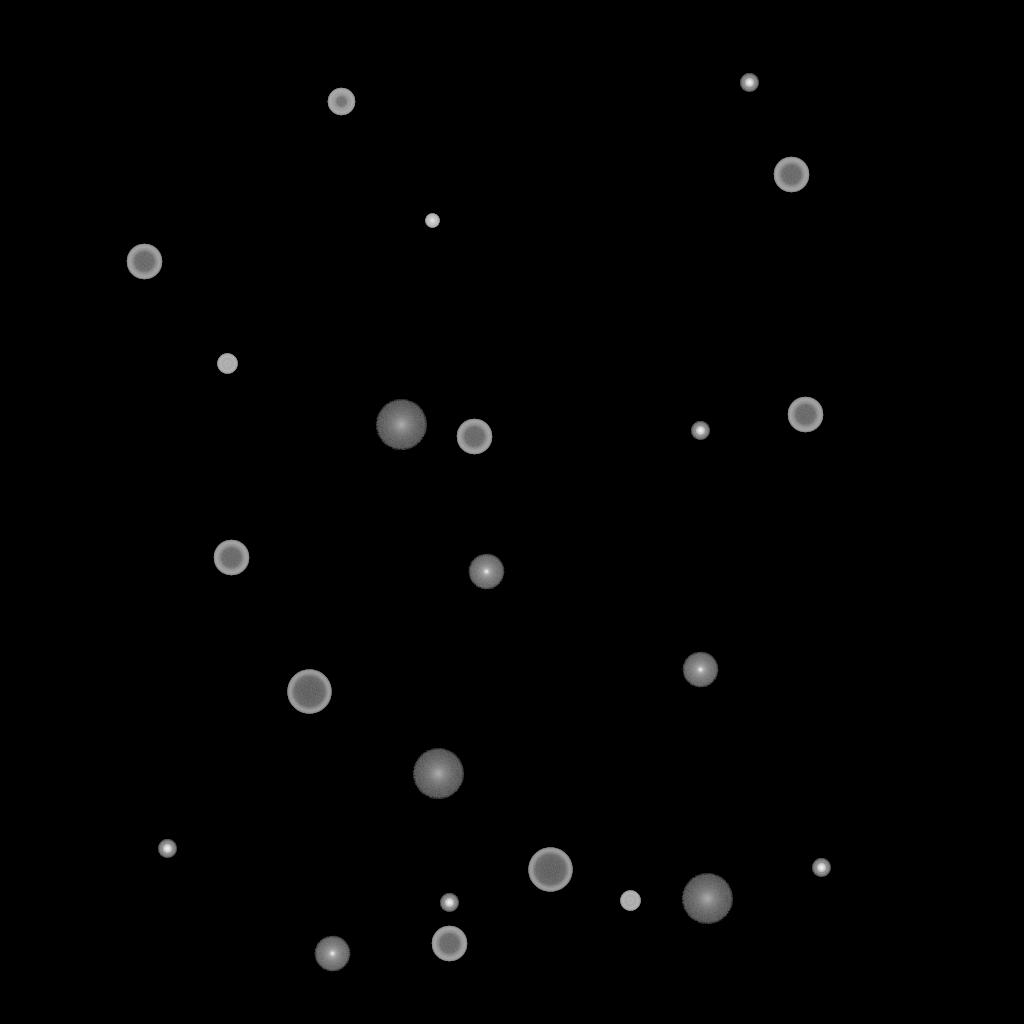depth:-20: (691, 422, 709, 440), (440, 894, 458, 912), (740, 74, 758, 92), (812, 859, 830, 877), (158, 840, 176, 858)
depth:-30: (425, 214, 439, 228)
depth:-40: (217, 354, 237, 374), (620, 891, 640, 911)
depth:-50: (327, 88, 355, 116)
depth:-60: (431, 926, 467, 962), (773, 157, 809, 193), (126, 244, 162, 280), (456, 419, 492, 455), (787, 397, 823, 433), (213, 540, 249, 576)
depth:-70: (287, 670, 331, 714), (528, 848, 572, 892)
depth:0: (468, 554, 504, 590), (682, 652, 718, 688), (314, 936, 350, 972)
depth:20: (412, 749, 464, 799), (375, 400, 427, 450), (681, 874, 733, 924)
